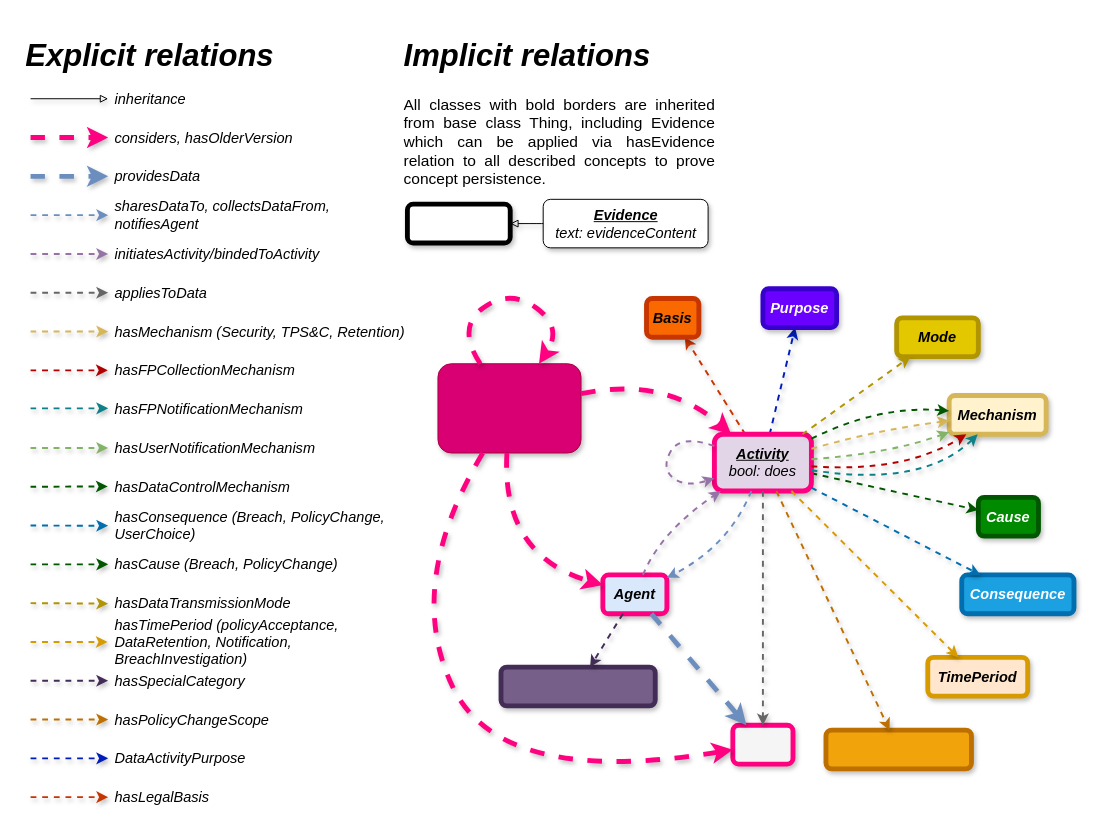
Image size: 1099x840. Some labels were removed from this diagram. Here are the shapes that lost their labels. From the top down, the centre of each, then its label:
(459,224): Thing
(510,409): PrivacyPolicy int: policyId str: policyWebsite date: policyUpdate
(578,687): UserSpecialCategory
(763,745): Data
(899,750): PolicyScopeChange
